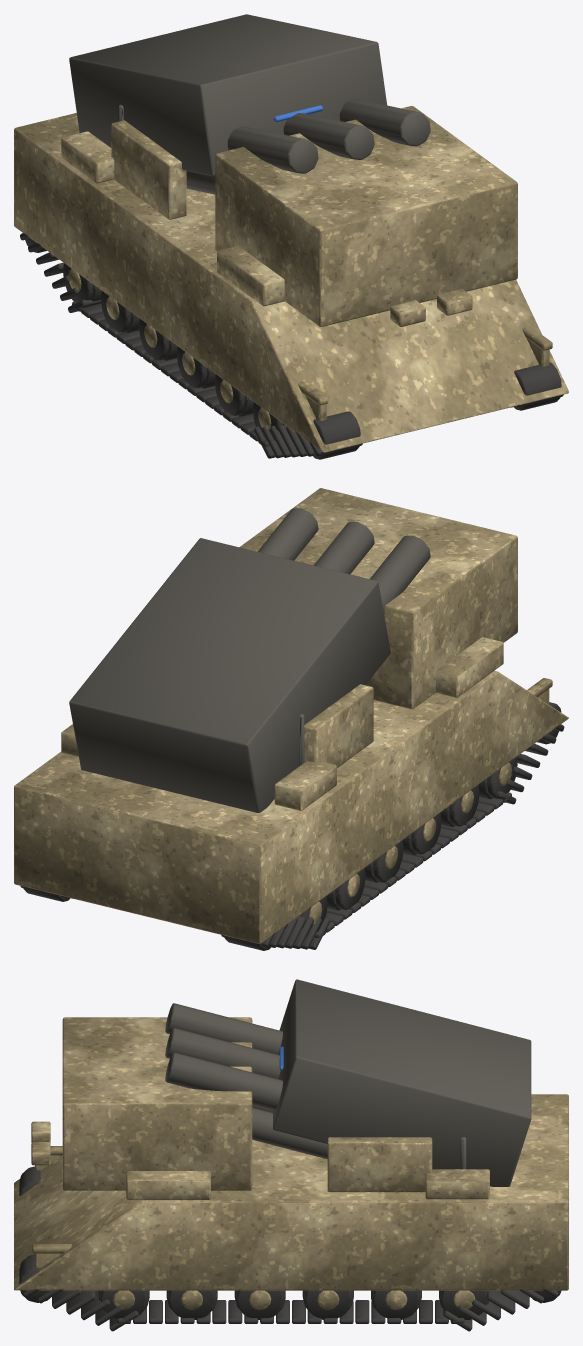
The model's file is art_e4_us_mlrs_LOD0.glb.
3 views of the same model, one above another, from view 1: azimuth 30°, elevation 25°; view 2: azimuth 150°, elevation 25°; view 3: azimuth 270°, elevation 25° (orthographic). The views are drawn at different scales.
Parts seen in each view (by area): view 1: art_e4_us_mlrs_LOD0_body, art_e4_us_mlrs_LOD0_deck, art_e4_us_mlrs_LOD0_track; view 2: art_e4_us_mlrs_LOD0_body, art_e4_us_mlrs_LOD0_deck, art_e4_us_mlrs_LOD0_track; view 3: art_e4_us_mlrs_LOD0_body, art_e4_us_mlrs_LOD0_deck, art_e4_us_mlrs_LOD0_track.
Boxes of the visible parts, left/top/right/bottom form: art_e4_us_mlrs_LOD0_body: left=14, top=106, right=568, bottom=452; art_e4_us_mlrs_LOD0_deck: left=69, top=14, right=430, bottom=194; art_e4_us_mlrs_LOD0_track: left=20, top=233, right=563, bottom=459; art_e4_us_mlrs_LOD0_body: left=14, top=488, right=568, bottom=943; art_e4_us_mlrs_LOD0_deck: left=69, top=508, right=430, bottom=812; art_e4_us_mlrs_LOD0_track: left=20, top=702, right=564, bottom=950; art_e4_us_mlrs_LOD0_body: left=14, top=1017, right=568, bottom=1309; art_e4_us_mlrs_LOD0_deck: left=165, top=979, right=531, bottom=1186; art_e4_us_mlrs_LOD0_track: left=19, top=1166, right=561, bottom=1331.
Size of the model in its own units: 3.18 by 3.56 by 6.89.
Materials: 5 (1 with a texture image).
